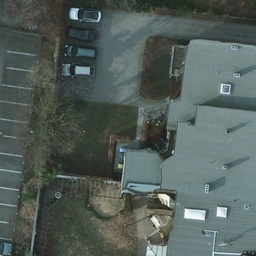car: (61, 63, 93, 80), (63, 43, 95, 60), (67, 6, 102, 21), (67, 26, 97, 41)
